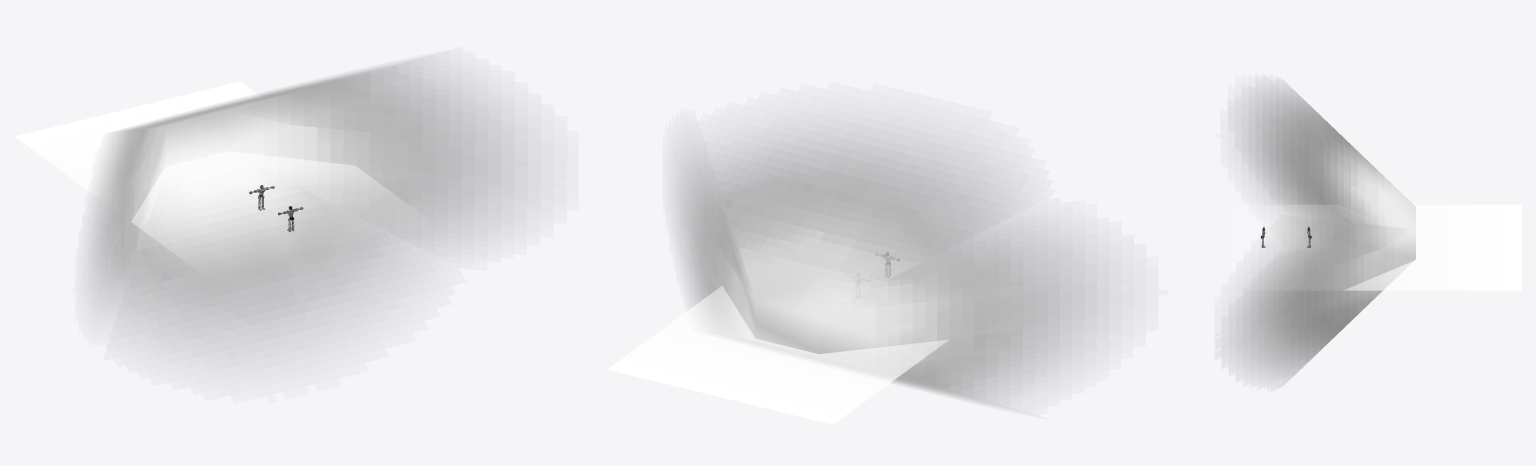
The model's file is TORIS_compressed.glb.
The picture shows the model from 3 angles, left to right: view 1: azimuth 30°, elevation 25°; view 2: azimuth 150°, elevation 25°; view 3: azimuth 270°, elevation 25°; orthographic projection. The views are drawn at different scales.
Parts seen in each view (by area): view 1: Cube; view 2: Cube; view 3: Cube.
Part boxes in pixels (x1,y1,x2,y2): Cube: (14, 62, 526, 349); Cube: (608, 131, 1096, 424); Cube: (1229, 86, 1521, 378).
Size of the model in its own units: 61.21 by 36.36 by 43.61.
41 materials, 41 textured.
